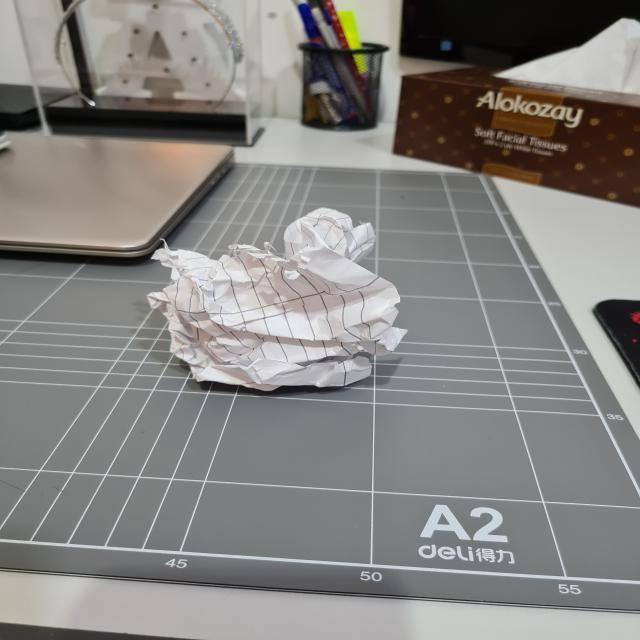trash: (156, 214, 412, 394)
